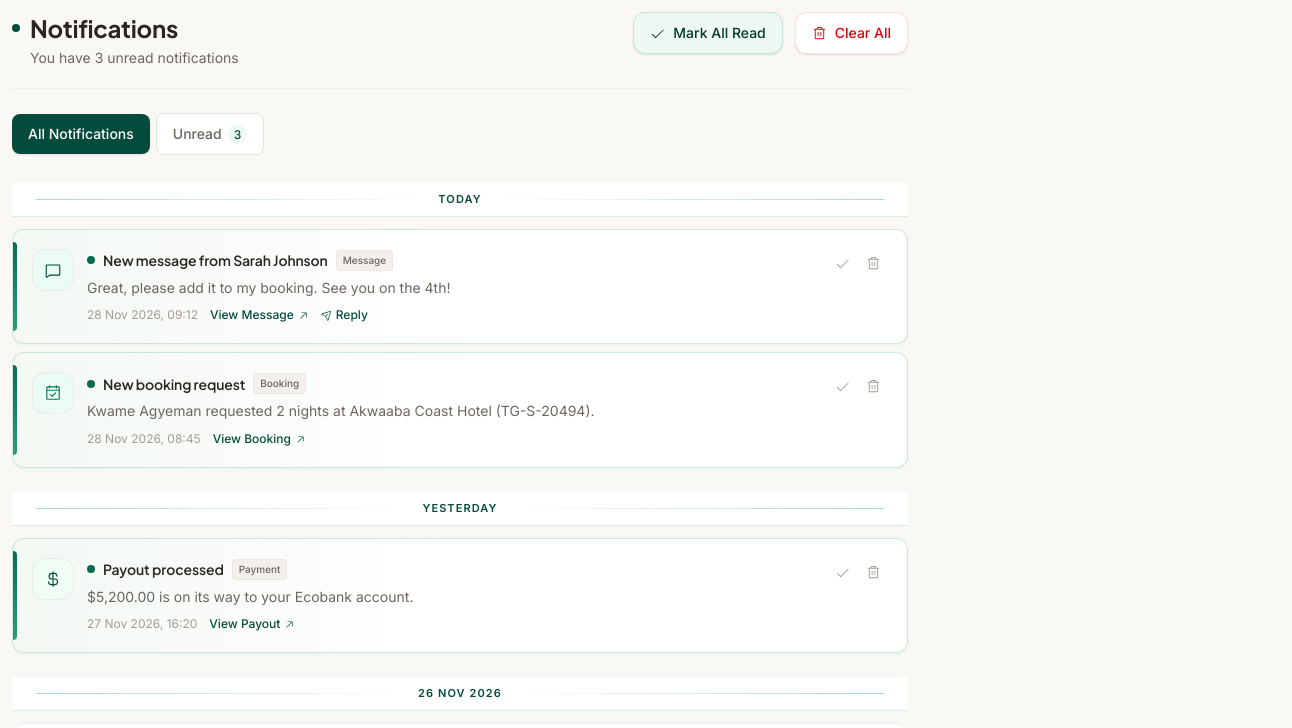
Scenario: StaysNotificationsPage — the Stays account inbox › quick-replies to a guest message through the Stays inbox
Expected: the heading "New message from Sarah Johnson" is shown, [103, 250, 328, 270]
Step 1. Click the button "Reply" → (344, 315), box [321, 307, 368, 323]
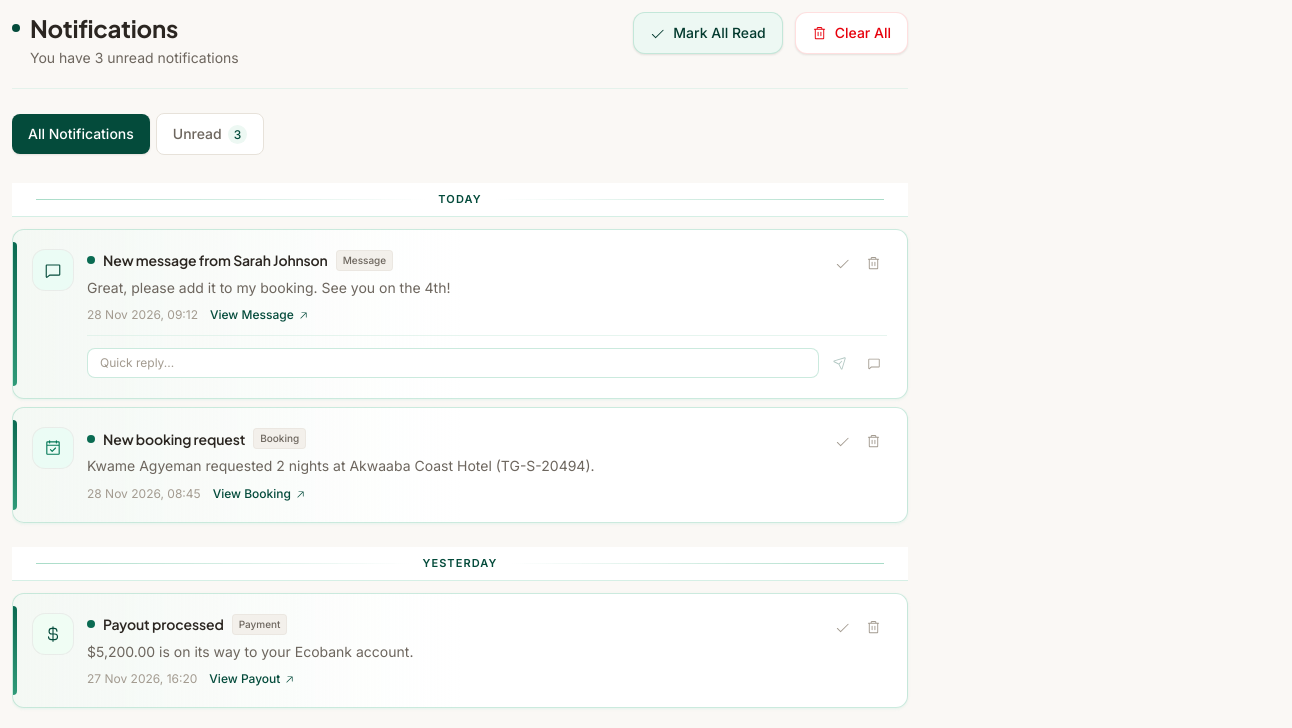
Step 2. Type "Adding it right away!" into the field with placeholder "Quick reply..." → (453, 363), box [87, 348, 819, 378]
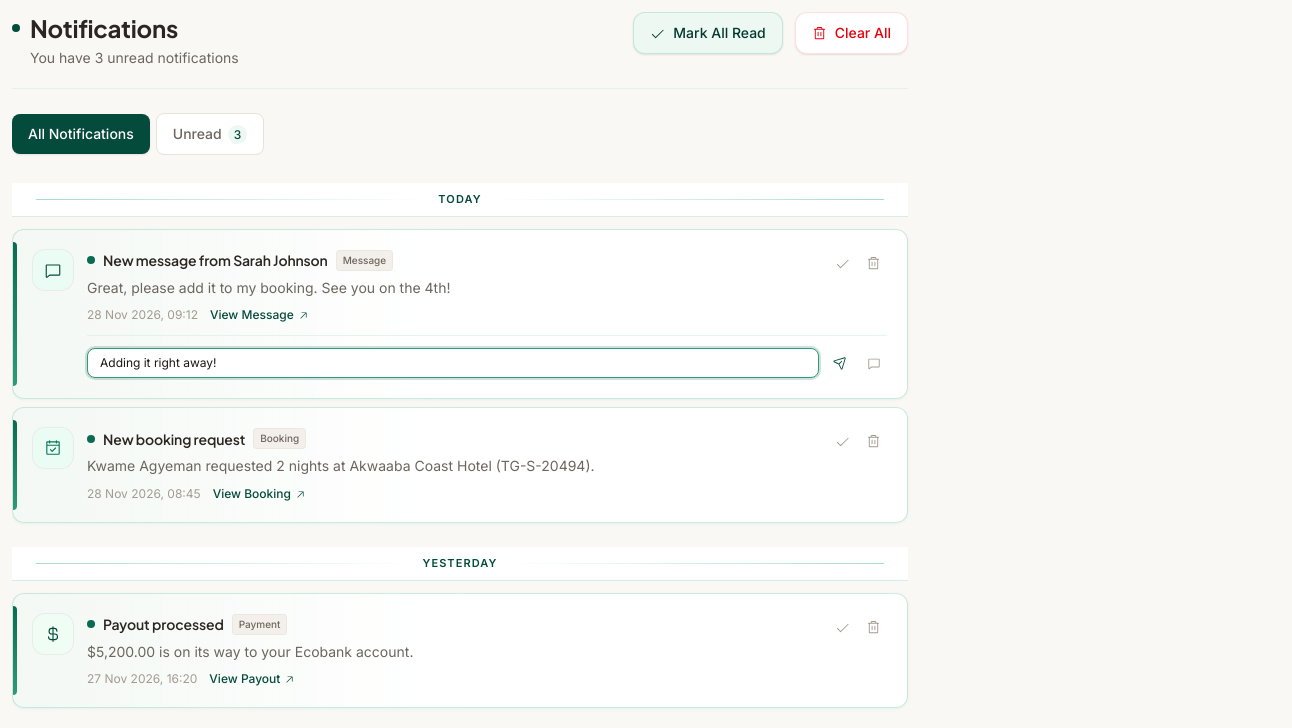
Step 3. Click the button titled "Send reply" → (840, 363), box [827, 350, 853, 376]
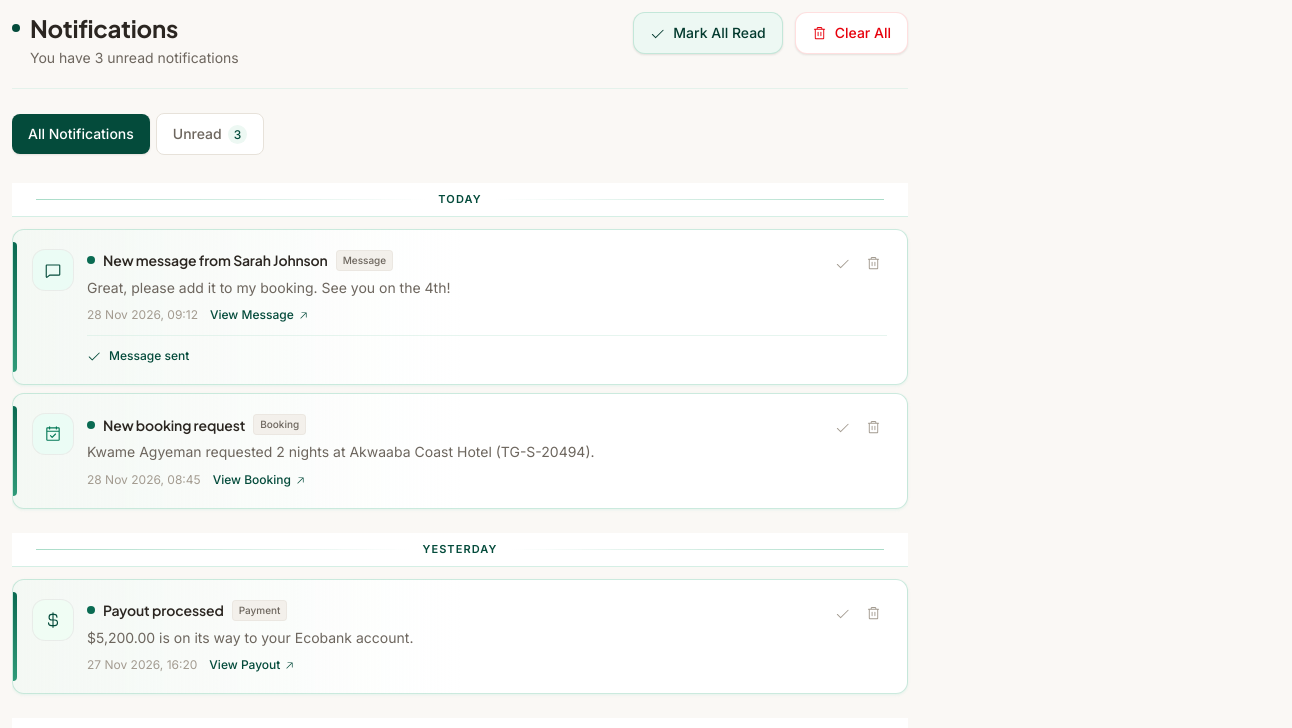
Expected: the text "Message sent" is shown, [87, 348, 189, 363]
